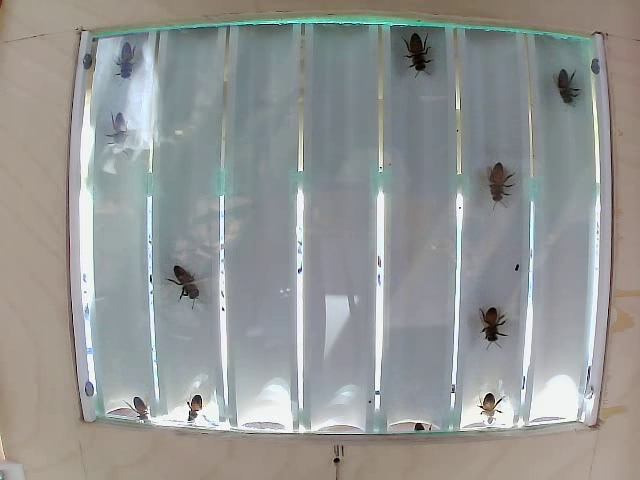bee: (480, 150, 525, 215), (468, 386, 522, 424), (104, 110, 145, 158), (169, 253, 206, 305), (107, 39, 145, 84), (399, 35, 437, 79), (549, 60, 579, 107), (177, 394, 216, 429), (475, 302, 503, 344)
